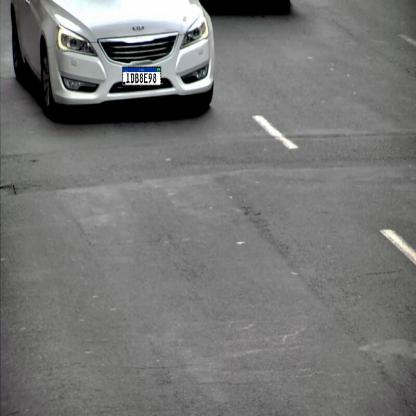PlacaM: (122, 67, 161, 86)
